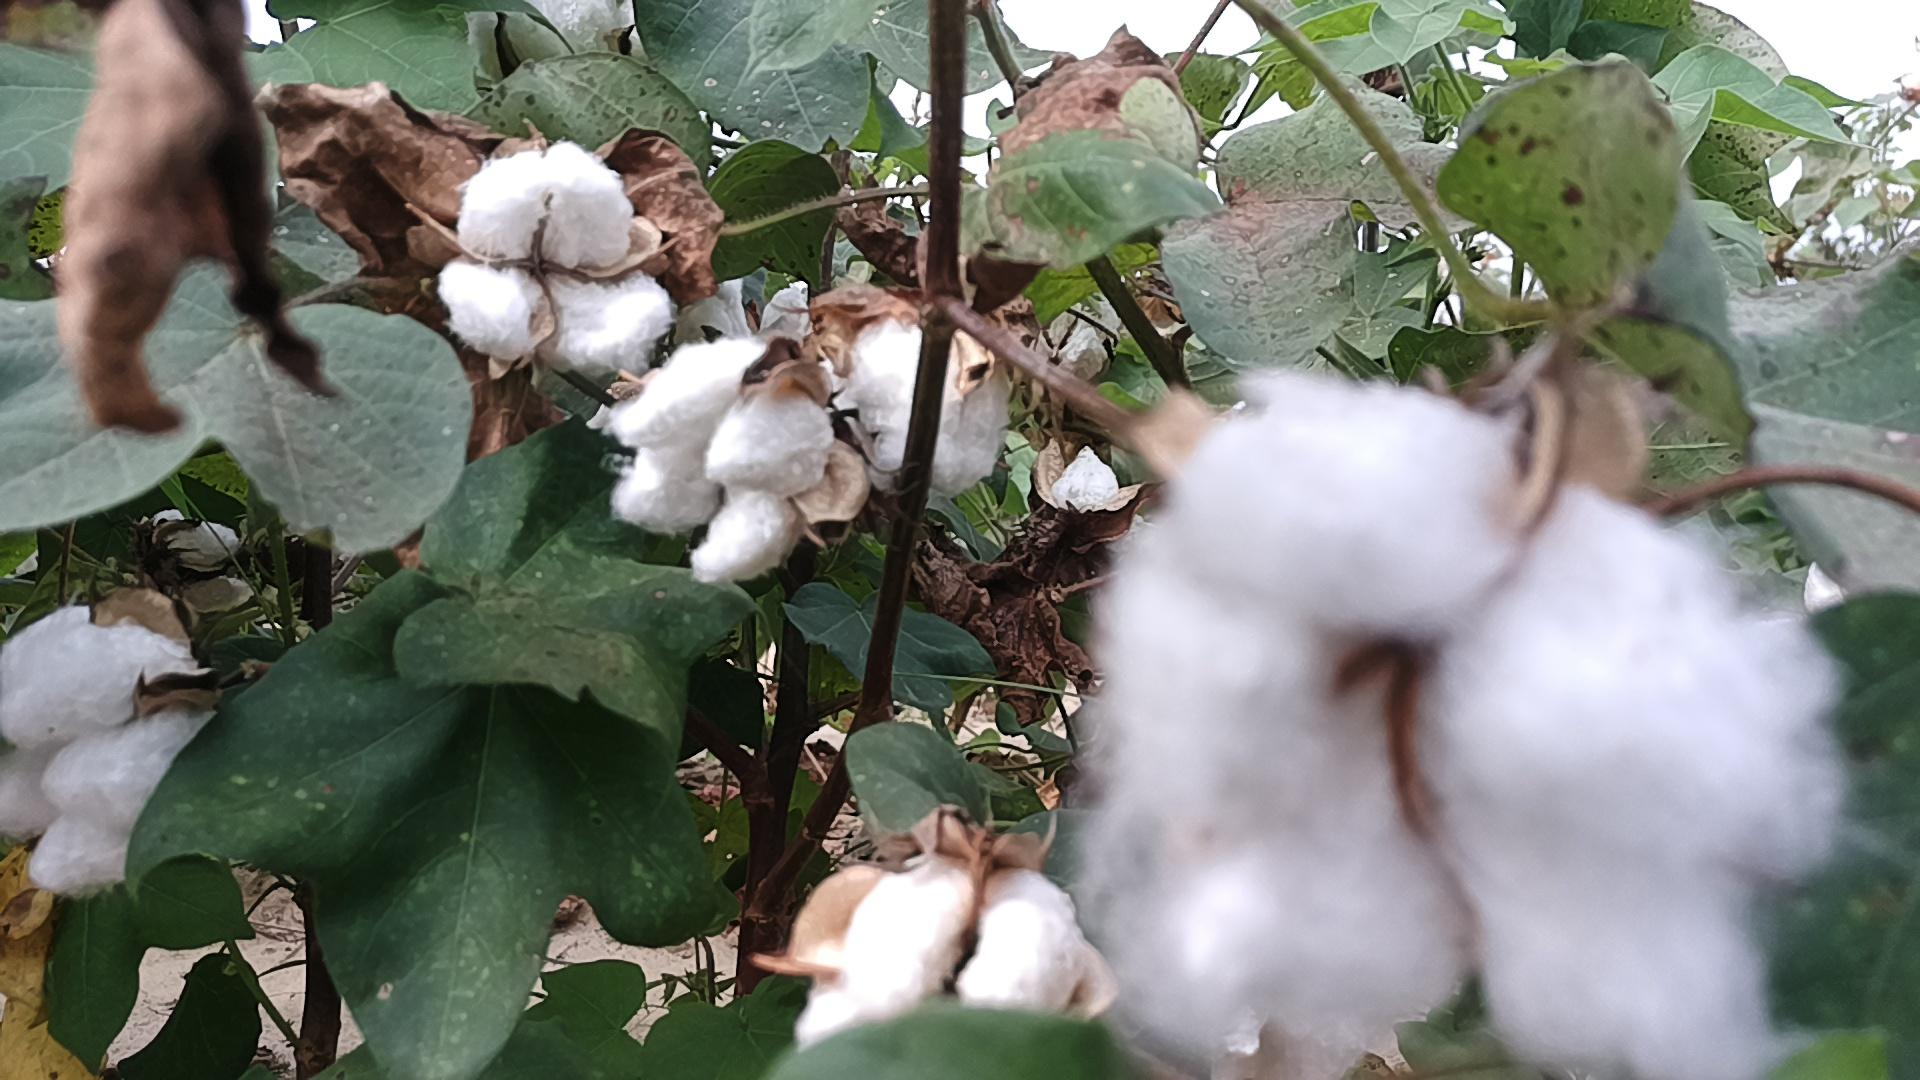cotton_ready: (1080, 365, 1846, 1080), (0, 605, 223, 891), (612, 338, 836, 583), (438, 138, 673, 361), (800, 856, 1081, 1040), (848, 326, 1015, 479), (138, 505, 248, 621), (683, 265, 824, 355), (1220, 1015, 1411, 1080), (1042, 443, 1118, 521)
